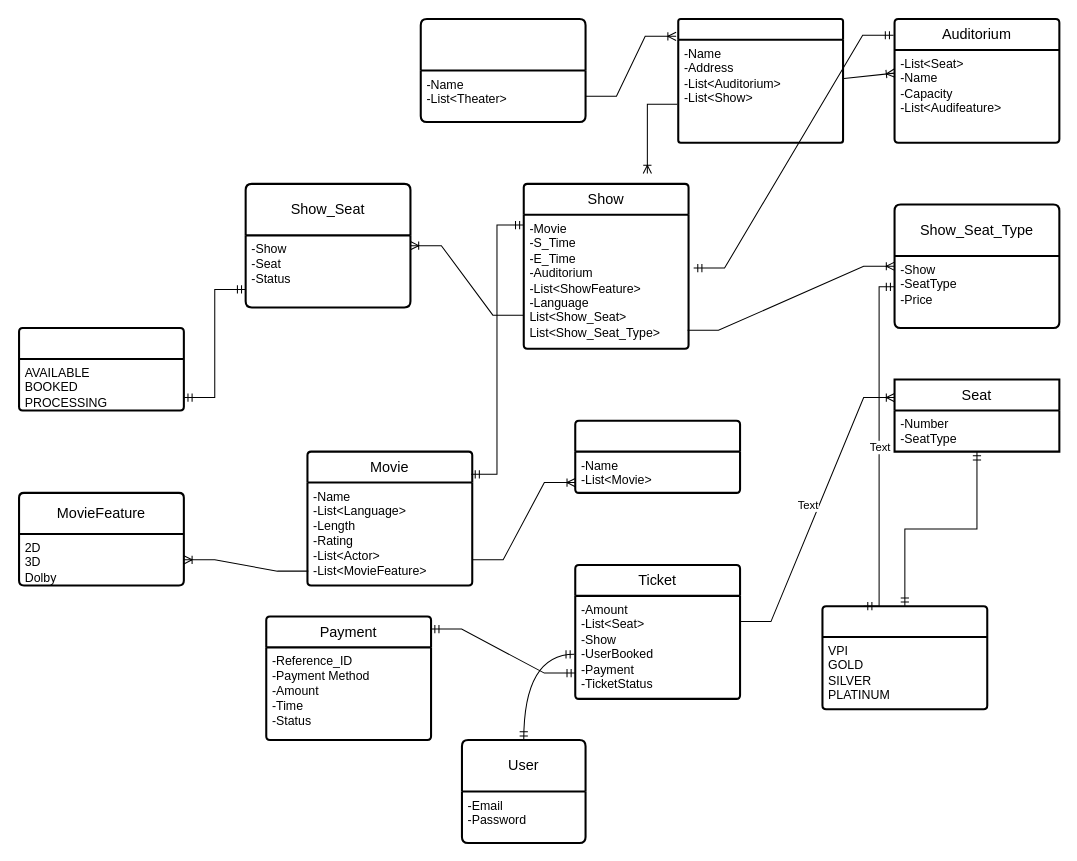
This 1077x861 diagram has some shape labels left out. Each missing label, with the box of its shape:
Actor: (574, 419, 741, 493)
City: (419, 18, 586, 123)
SeatType: (821, 605, 988, 710)
Status: (18, 327, 184, 411)
Theater: (677, 18, 844, 143)
